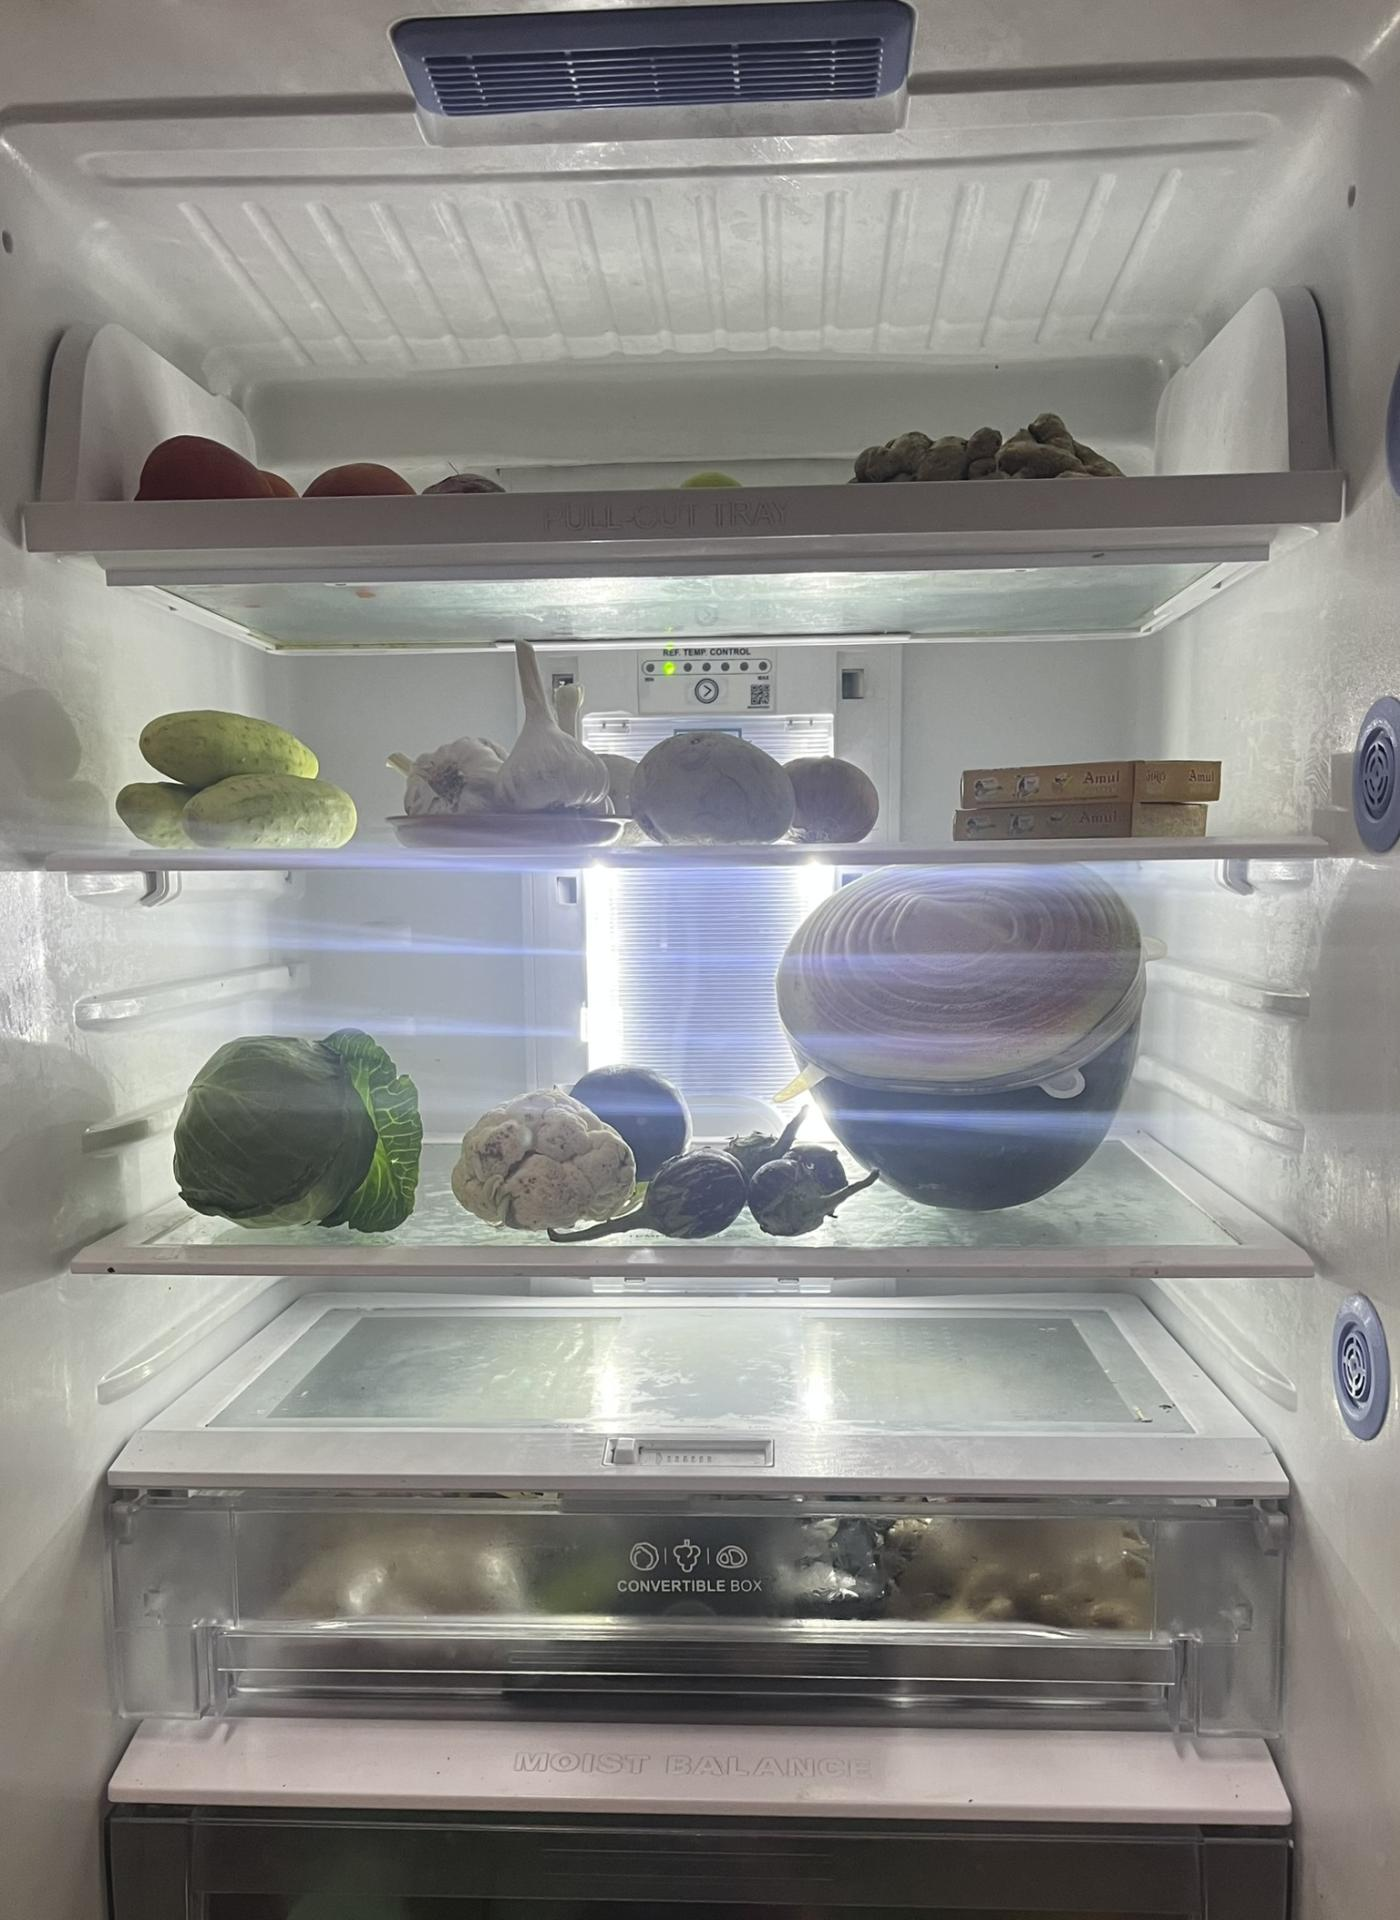butter: (948, 756, 1233, 838)
cabbage: (176, 1018, 419, 1237)
cauliflower: (450, 1094, 653, 1234)
cucumber: (112, 699, 367, 856)
garlic: (401, 641, 626, 821)
ginger: (842, 410, 1118, 474)
potato: (629, 721, 887, 844)
tomato: (119, 419, 416, 501)
watermelon: (769, 866, 1145, 1209)
